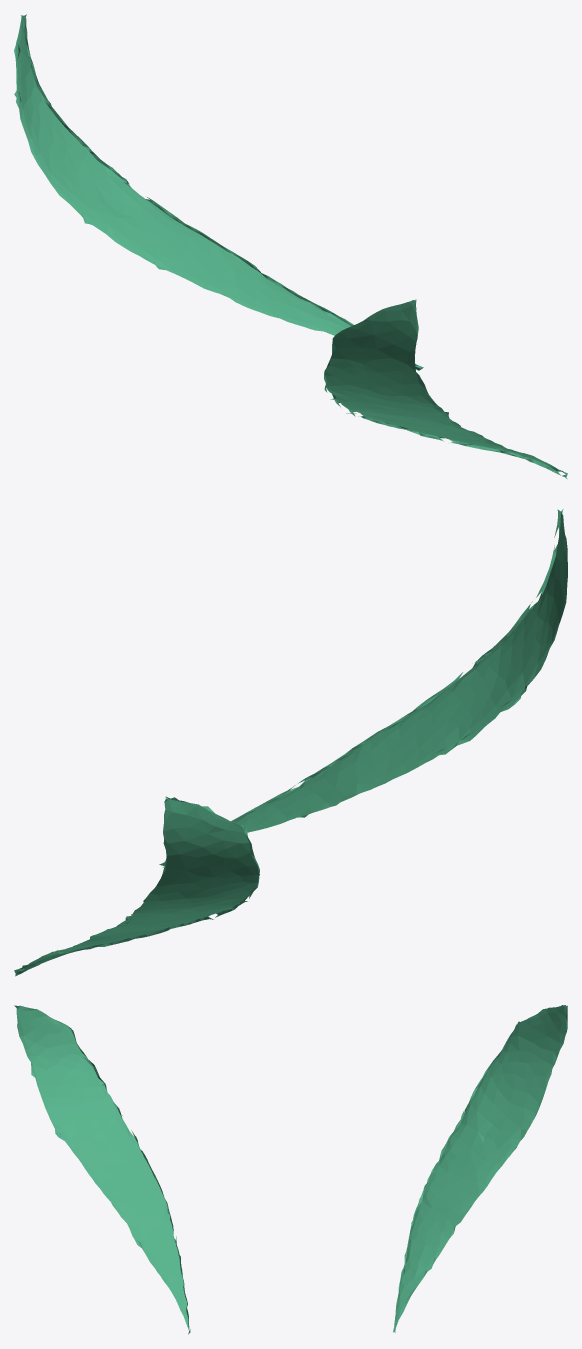
The picture shows the model from 3 angles, top to bottom: view 1: azimuth 30°, elevation 25°; view 2: azimuth 150°, elevation 25°; view 3: azimuth 270°, elevation 25°; orthographic projection. The views are drawn at different scales.
Parts seen in each view (by area): view 1: 882.obj; view 2: 882.obj; view 3: 882.obj.
Part boxes in pixels (x1,y1,x2,y2): 882.obj: (14,14,567,479); 882.obj: (14,509,567,976); 882.obj: (14,1005,567,1334).
Bounding box in the file's own units: 2548 × 2547 × 5428.
